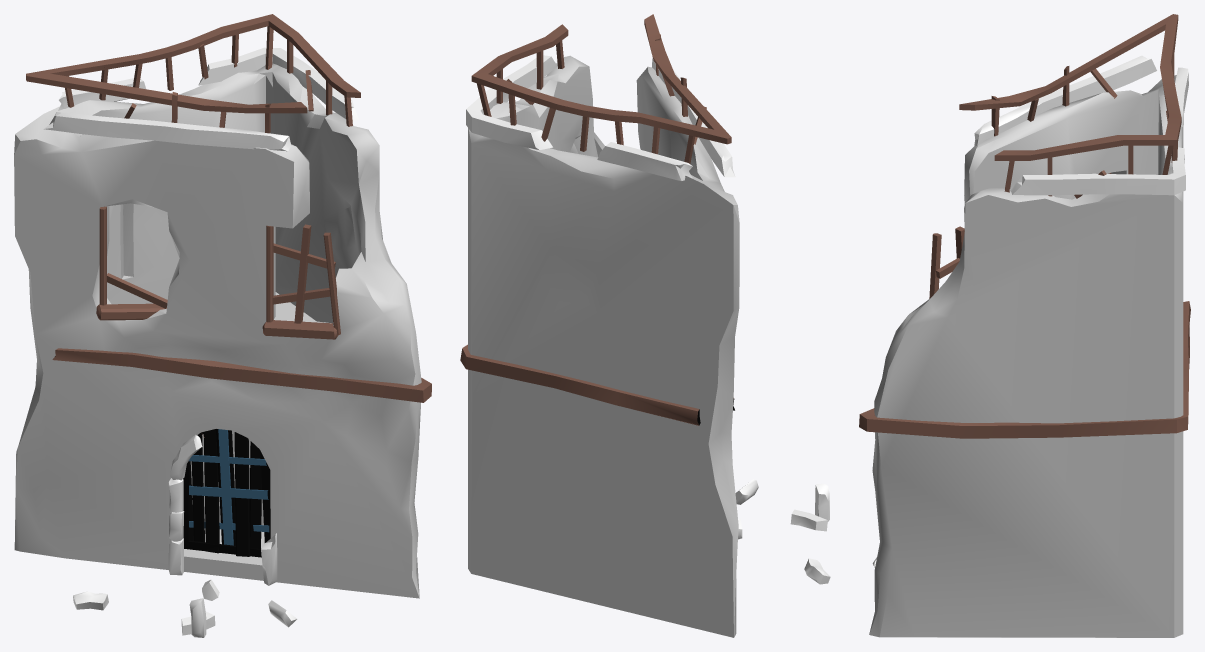
File: civilian_house_ruin_d.FBX
The picture shows the model from 3 angles, left to right: view 1: azimuth 30°, elevation 25°; view 2: azimuth 150°, elevation 25°; view 3: azimuth 270°, elevation 25°; orthographic projection. The views are drawn at different scales.
Visible parts, largest first — view 1: civilian_house_ruin_d_LOD0; view 2: civilian_house_ruin_d_LOD0; view 3: civilian_house_ruin_d_LOD0.
Part boxes in pixels (x1,y1,x2,y2): civilian_house_ruin_d_LOD0: (14, 14, 431, 637); civilian_house_ruin_d_LOD0: (460, 14, 830, 637); civilian_house_ruin_d_LOD0: (859, 14, 1190, 637).
Size of what is drawn, in the model's own units: 541 by 876 by 531.
